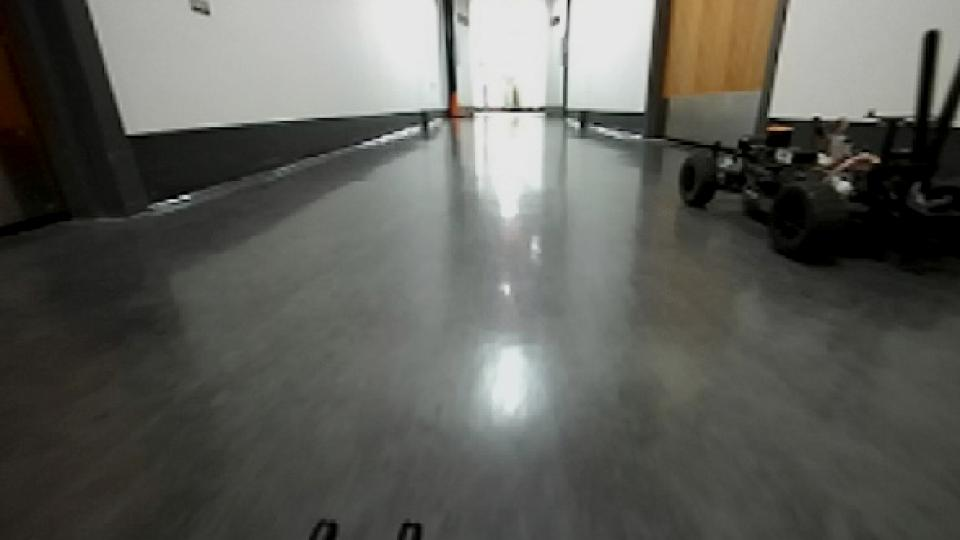car: (675, 20, 960, 265)
